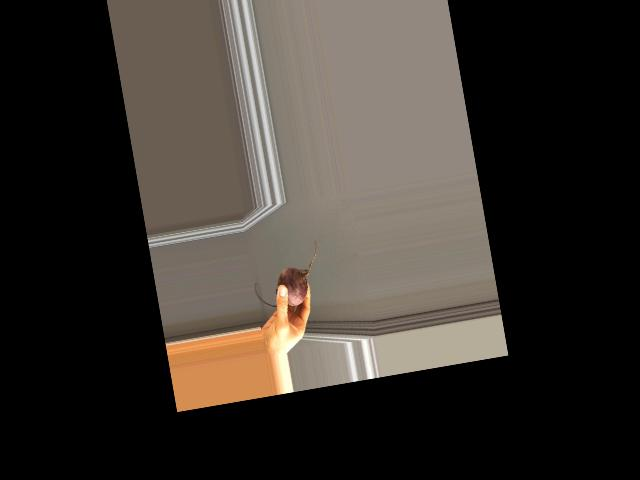beet: (247, 239, 325, 311)
